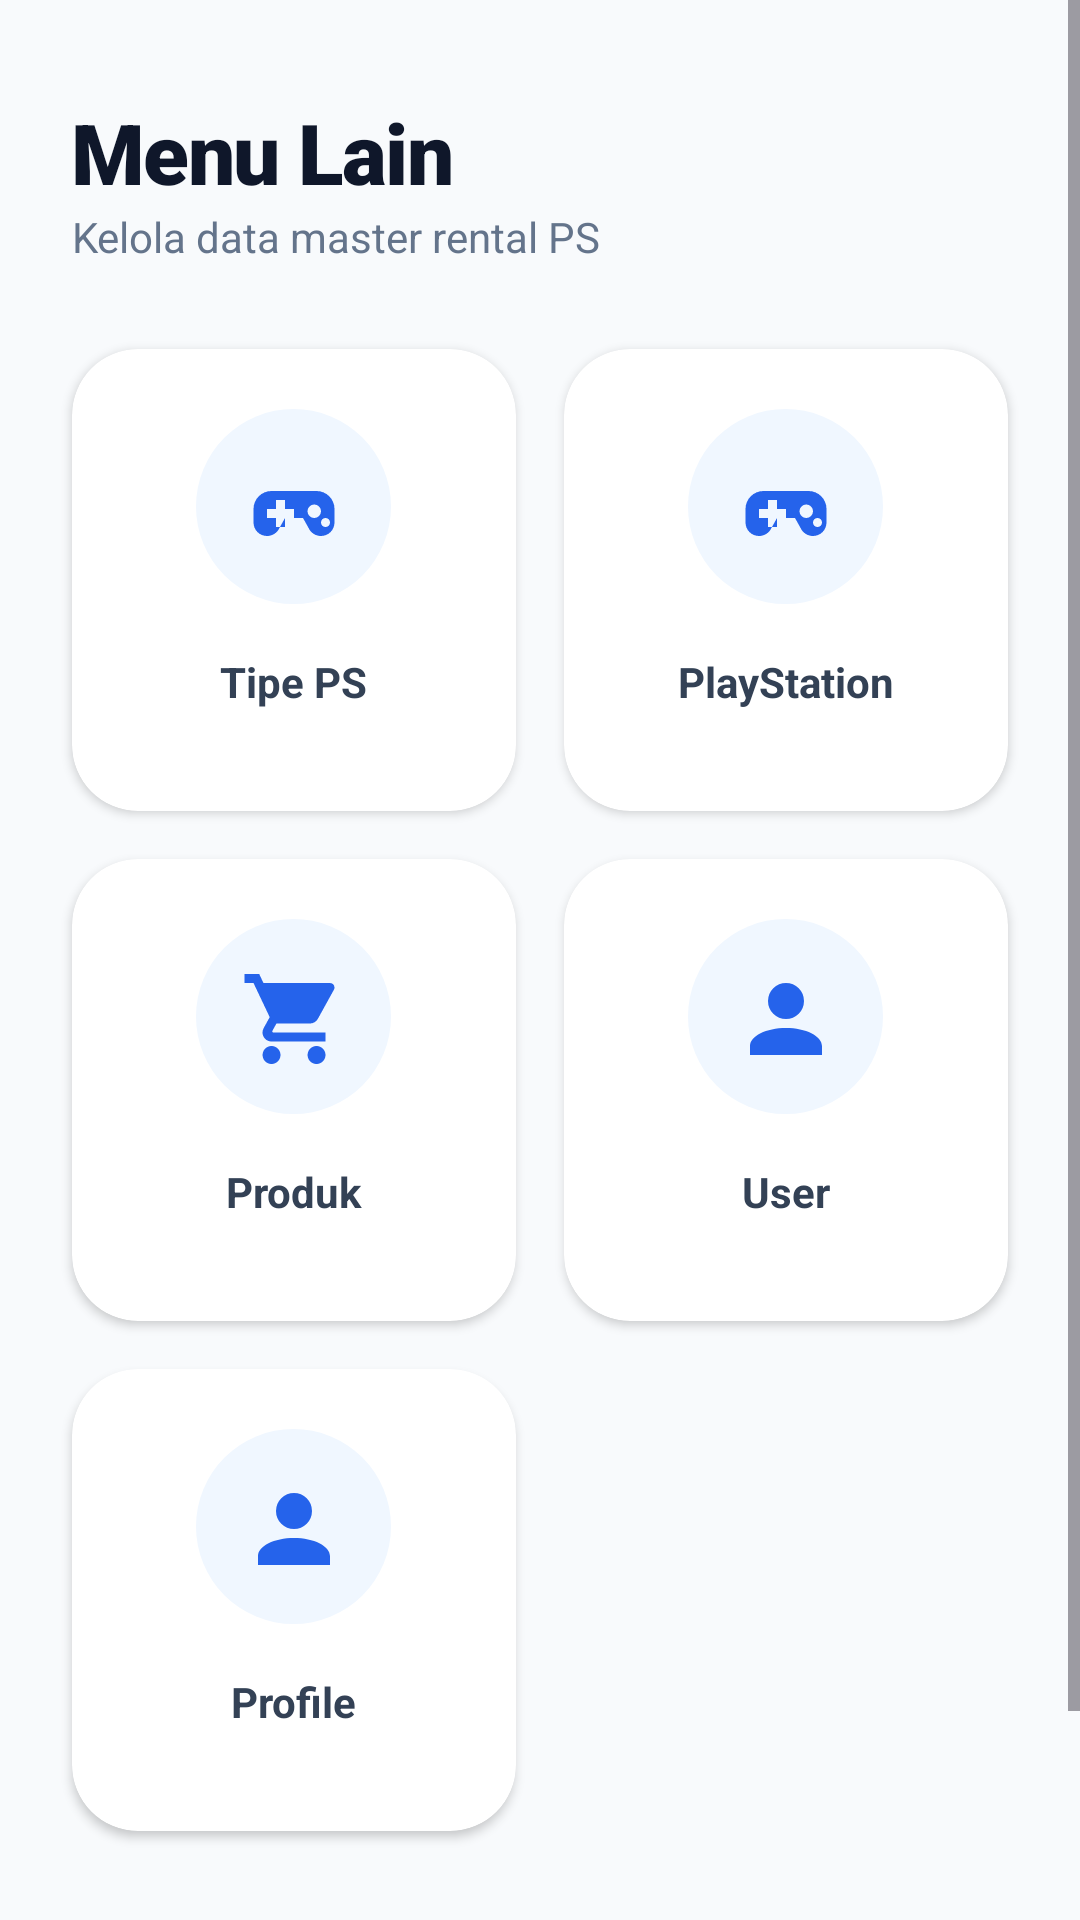

Screen size 1080w x 1920h. Icon name, then its box in pixels as [x1=x1, y1=y1, x2=x2, y2=y2]:
gamepad: [x1=253, y1=491, x2=335, y2=536], [x1=745, y1=491, x2=827, y2=536]
person: [x1=750, y1=983, x2=822, y2=1055], [x1=258, y1=1493, x2=330, y2=1565]
